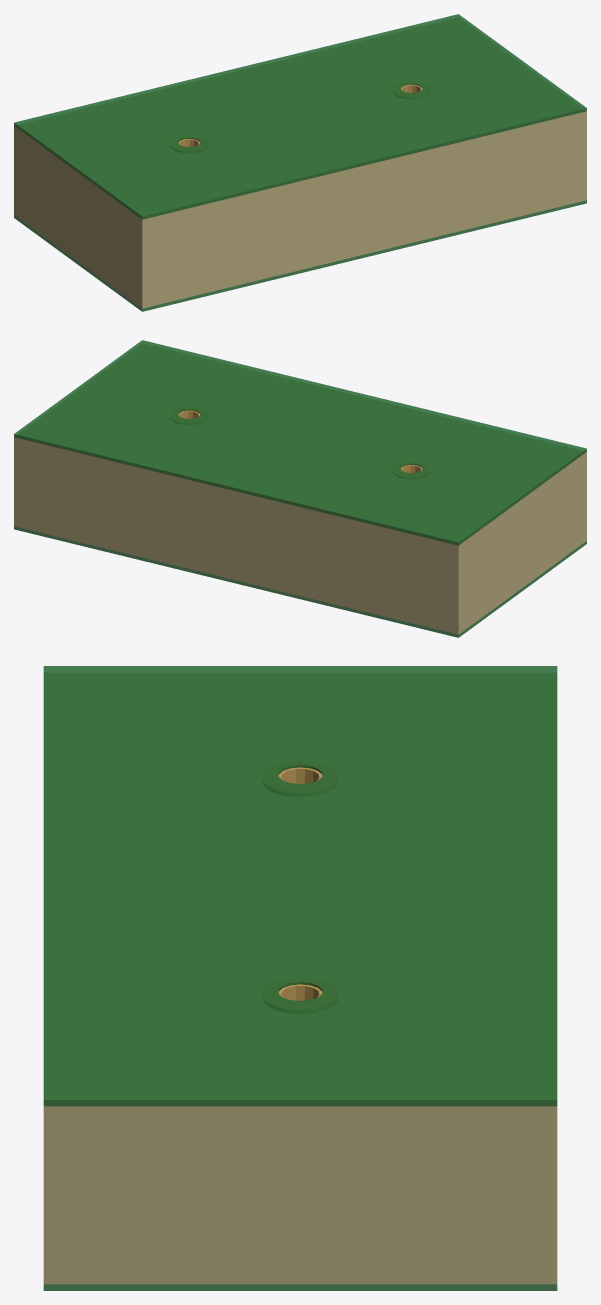
The model's file is pad-stacks-drill-layer.glb.
3 views of the same model, one above another, from view 1: azimuth 30°, elevation 25°; view 2: azimuth 150°, elevation 25°; view 3: azimuth 270°, elevation 25° (orthographic). The views are drawn at different scales.
Parts seen in each view (by area): view 1: layer/@core, layer/@soldermask-top, layer/@soldermask-bottom; view 2: layer/@core, layer/@soldermask-top, layer/@soldermask-bottom; view 3: layer/@soldermask-top, layer/@core, layer/@soldermask-bottom, layer/Drill%20Guide.
Boxes of the visible parts, box(x1,y1,x2,y2) form: layer/@core: box(14, 18, 586, 308); layer/@soldermask-top: box(14, 14, 586, 219); layer/@soldermask-bottom: box(14, 200, 586, 311); layer/@core: box(14, 344, 586, 634); layer/@soldermask-top: box(14, 340, 586, 545); layer/@soldermask-bottom: box(14, 526, 586, 637); layer/@soldermask-top: box(43, 666, 557, 1106); layer/@core: box(43, 673, 557, 1284); layer/@soldermask-bottom: box(43, 1284, 557, 1290); layer/Drill%20Guide: box(278, 767, 322, 1002).
Size of the model in its own units: 0.008 by 0.00164 by 0.004.
